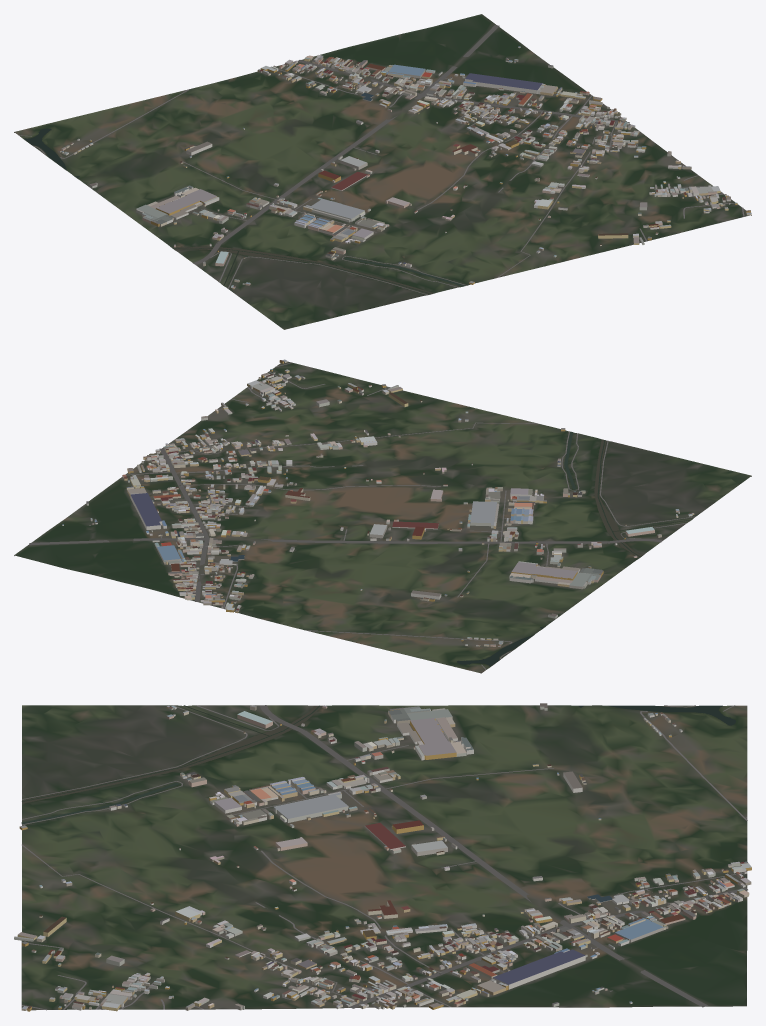
3 views of the same model, one above another, from view 1: azimuth 30°, elevation 25°; view 2: azimuth 150°, elevation 25°; view 3: azimuth 270°, elevation 25° (orthographic). The views are drawn at different scales.
Visible parts, largest first — view 1: ground, buildings, roads, water; view 2: ground, buildings, roads, water; view 3: ground, buildings, roads, water.
Part boxes in pixels (x1=…): ground: x1=14, y1=14, x2=751, y2=329; buildings: x1=58, y1=46, x2=751, y2=289; roads: x1=18, y1=25, x2=744, y2=294; water: x1=23, y1=128, x2=465, y2=294; ground: x1=14, y1=361, x2=751, y2=673; buildings: x1=62, y1=359, x2=694, y2=647; roads: x1=29, y1=362, x2=695, y2=670; water: x1=457, y1=431, x2=691, y2=666; ground: x1=21, y1=705, x2=747, y2=1010; buildings: x1=14, y1=703, x2=751, y2=1011; roads: x1=22, y1=705, x2=747, y2=1010; water: x1=21, y1=705, x2=735, y2=824.
Size of the model in its own units: 1412 by 23.43 by 1425.
